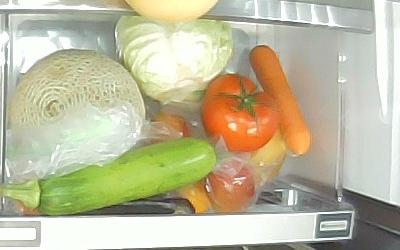cabbage: (115, 15, 234, 104)
carrot: (249, 44, 311, 156)
carrot_vinyl: (149, 112, 211, 214)
eggplant: (79, 192, 195, 215)
melon: (8, 47, 145, 135)
pear: (252, 129, 287, 187)
prune_vinyl: (204, 158, 258, 212)
tomato: (199, 74, 281, 154)
zucchini: (1, 137, 216, 215)
